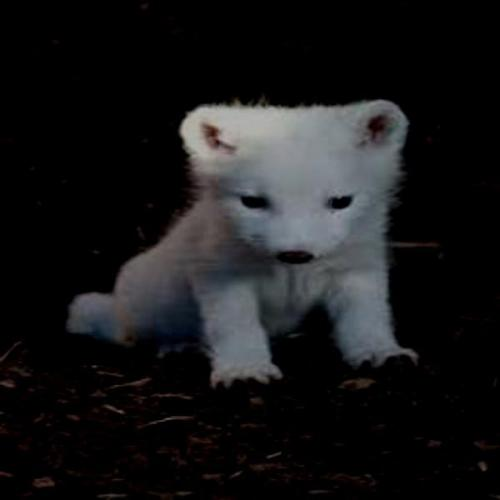arctic_fox-endangered: (80, 98, 412, 366)
